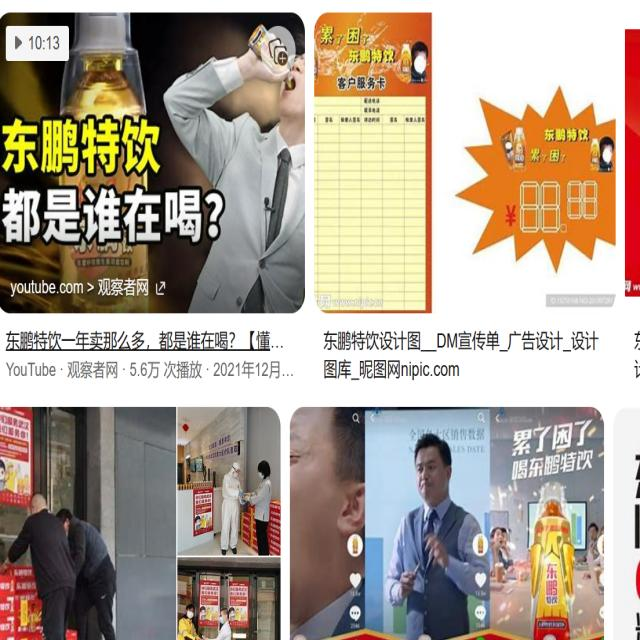dongpeng_special: (532, 535, 576, 619)
